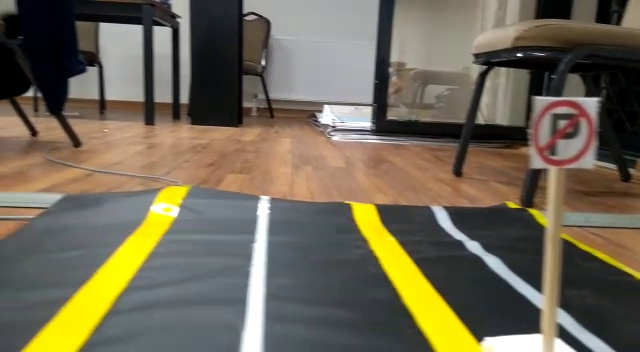park_yapilmaz: (526, 95, 595, 165)
